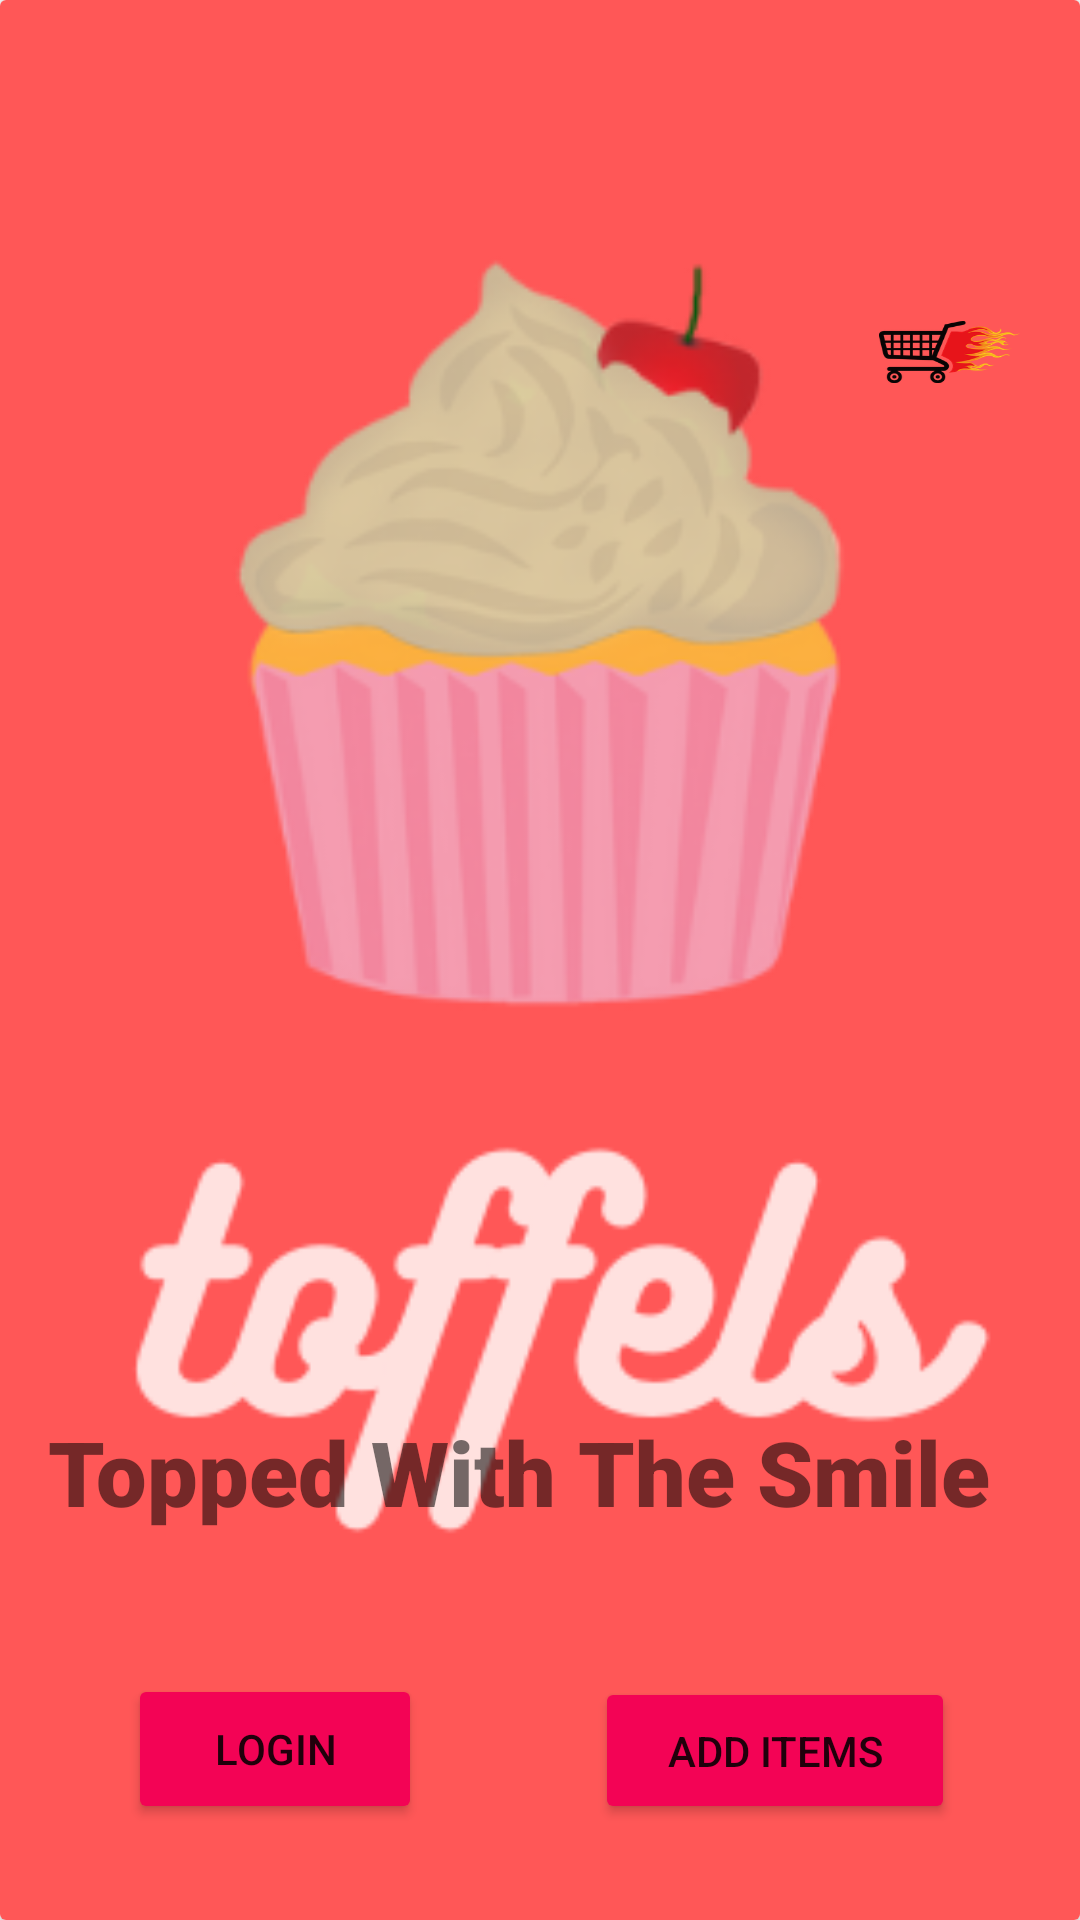

Screen size 1080px×1920px. Icon name, then its center in pixels as (x=x, y=y):
cart: (x=948, y=352)
